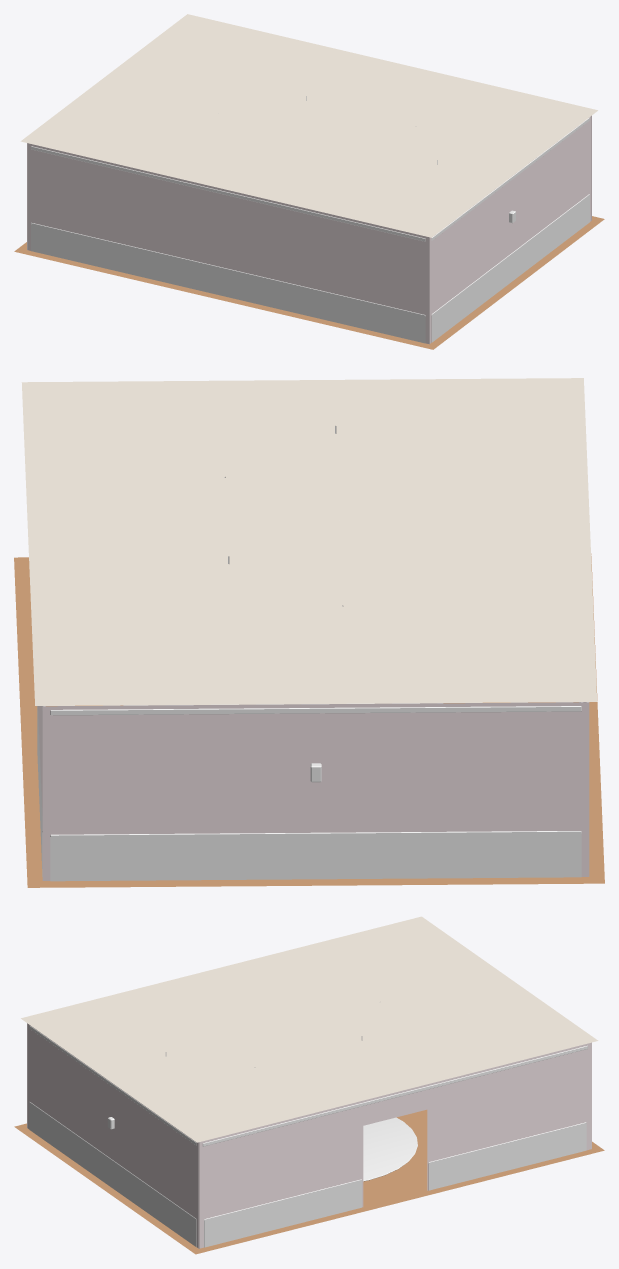
File: zon_room_diary_raw.glb
3 renders of one model, top to bottom at view 1: azimuth 30°, elevation 25°; view 2: azimuth 150°, elevation 25°; view 3: azimuth 270°, elevation 25°, orthographic. The views are drawn at different scales.
Parts seen in each view (by area): view 1: SM_zon_room_diary_room_ceiling_xm1_z0_raw, SM_zon_room_diary_room_paper_xm1_z0_raw, SM_zon_room_diary_kit_interior_xm1_z0_raw, SM_zon_room_diary_room_floor_xm1_z0_raw; view 2: SM_zon_room_diary_room_ceiling_xm1_z0_raw, SM_zon_room_diary_room_paper_xm1_z0_raw, SM_zon_room_diary_kit_interior_xm1_z0_raw, SM_zon_room_diary_room_floor_xm1_z0_raw; view 3: SM_zon_room_diary_room_ceiling_xm1_z0_raw, SM_zon_room_diary_room_paper_xm1_z0_raw, SM_zon_room_diary_kit_interior_xm1_z0_raw, SM_zon_room_diary_room_floor_xm1_z0_raw.
Part boxes in pixels (left/top/right/bottom): SM_zon_room_diary_room_ceiling_xm1_z0_raw: left=20, top=14, right=597, bottom=237; SM_zon_room_diary_room_paper_xm1_z0_raw: left=27, top=115, right=591, bottom=344; SM_zon_room_diary_kit_interior_xm1_z0_raw: left=31, top=96, right=589, bottom=343; SM_zon_room_diary_room_floor_xm1_z0_raw: left=14, top=216, right=604, bottom=349; SM_zon_room_diary_room_ceiling_xm1_z0_raw: left=21, top=378, right=597, bottom=705; SM_zon_room_diary_room_paper_xm1_z0_raw: left=38, top=702, right=589, bottom=880; SM_zon_room_diary_kit_interior_xm1_z0_raw: left=37, top=426, right=588, bottom=881; SM_zon_room_diary_room_floor_xm1_z0_raw: left=14, top=553, right=604, bottom=887; SM_zon_room_diary_room_ceiling_xm1_z0_raw: left=21, top=916, right=598, bottom=1142; SM_zon_room_diary_room_paper_xm1_z0_raw: left=27, top=1023, right=591, bottom=1248; SM_zon_room_diary_kit_interior_xm1_z0_raw: left=29, top=1002, right=587, bottom=1247; SM_zon_room_diary_room_floor_xm1_z0_raw: left=14, top=1109, right=604, bottom=1254.
Bounding box in the file's own units: 17.57 × 4.05 × 18.93.
